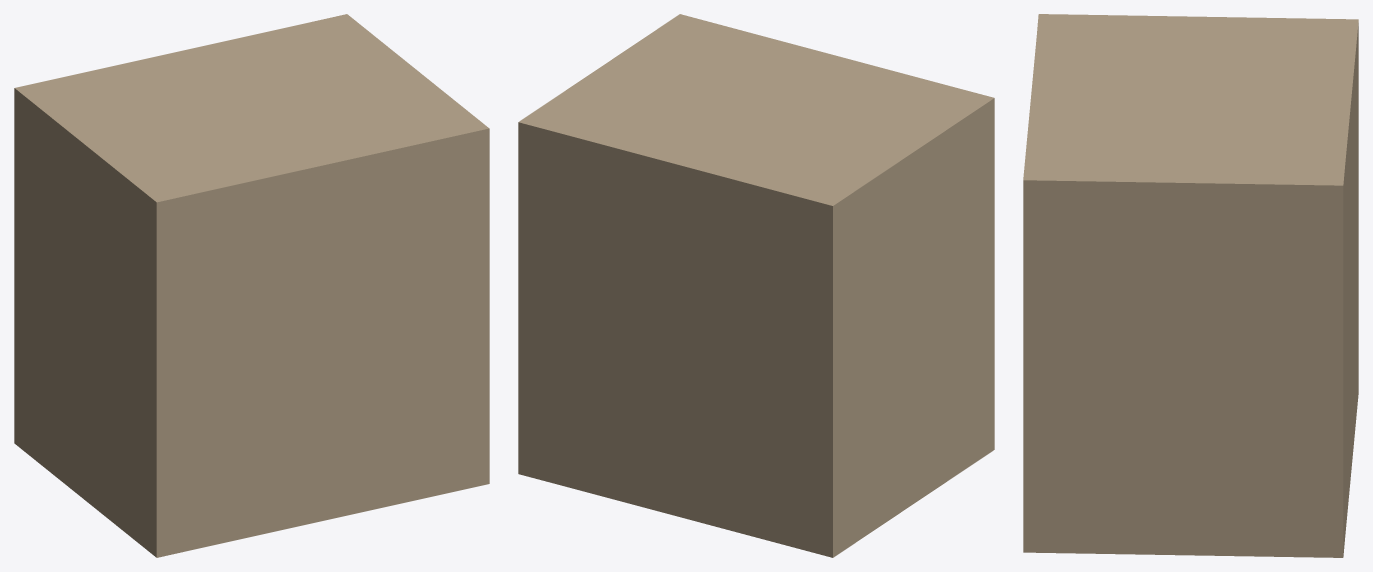
File: bld_101374745.dae
3 renders of one model, left to right at view 1: azimuth 30°, elevation 25°; view 2: azimuth 150°, elevation 25°; view 3: azimuth 270°, elevation 25°, orthographic. The views are drawn at different scales.
Visible parts, largest first — view 1: bld_101374745; view 2: bld_101374745; view 3: bld_101374745.
Boxes of the visible parts, x1,y1,x2,y2 form: bld_101374745: (14, 14, 489, 557); bld_101374745: (518, 14, 994, 557); bld_101374745: (1023, 14, 1358, 557).
Bounding box in the file's own units: 7.91 × 6.54 × 8.
